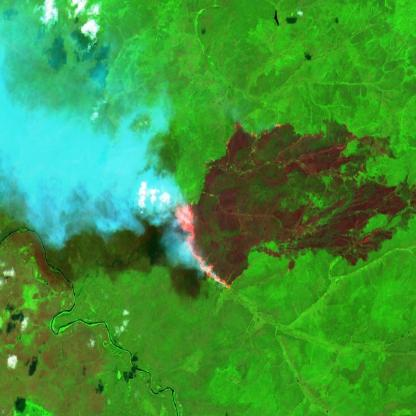fire: (168, 192, 234, 298)
